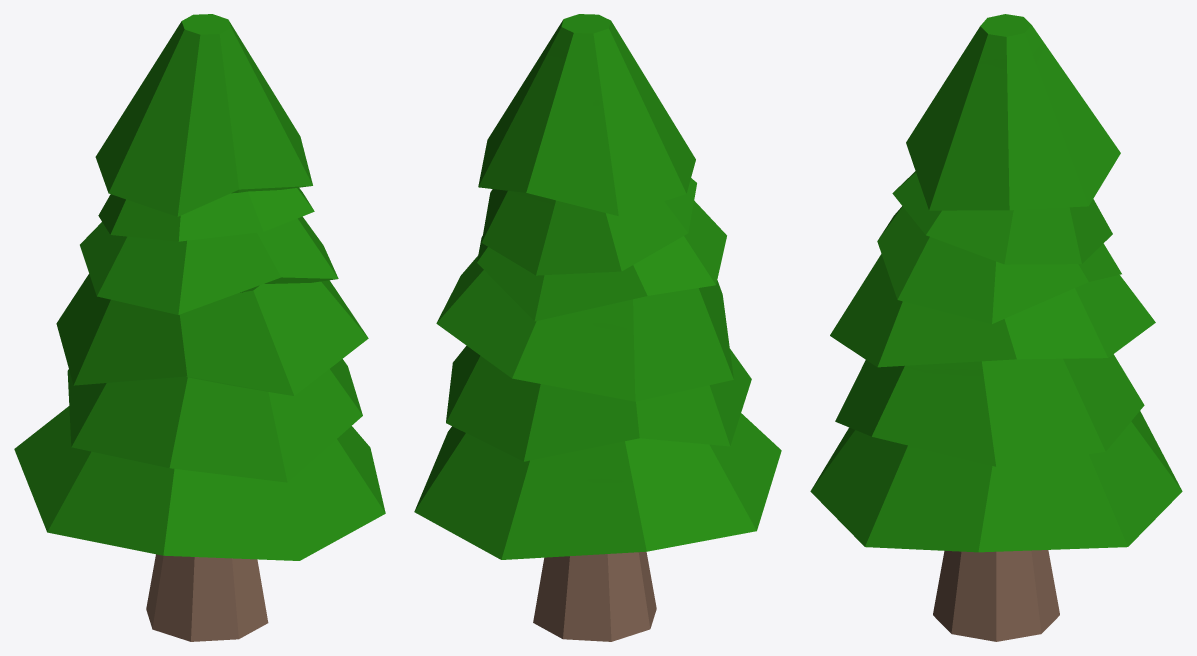
The model's file is Tree_02.fbx.
The picture shows the model from 3 angles, left to right: view 1: azimuth 30°, elevation 25°; view 2: azimuth 150°, elevation 25°; view 3: azimuth 270°, elevation 25°; orthographic projection.
Parts seen in each view (by area): view 1: Tree_02; view 2: Tree_02; view 3: Tree_02.
Boxes of the visible parts, bbox=[...] form: Tree_02: bbox=[14, 14, 385, 641]; Tree_02: bbox=[414, 14, 781, 641]; Tree_02: bbox=[810, 14, 1182, 641].
Bounding box in the file's own units: 127 × 228 × 130.
